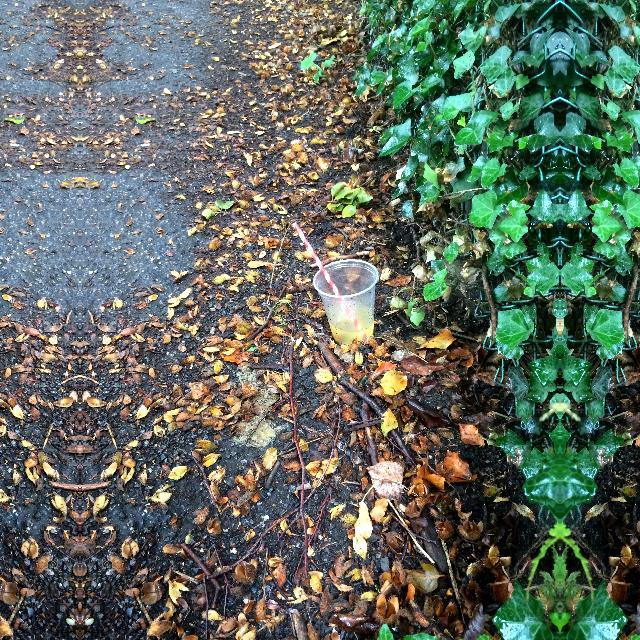Plastic: (306, 248, 390, 369)
